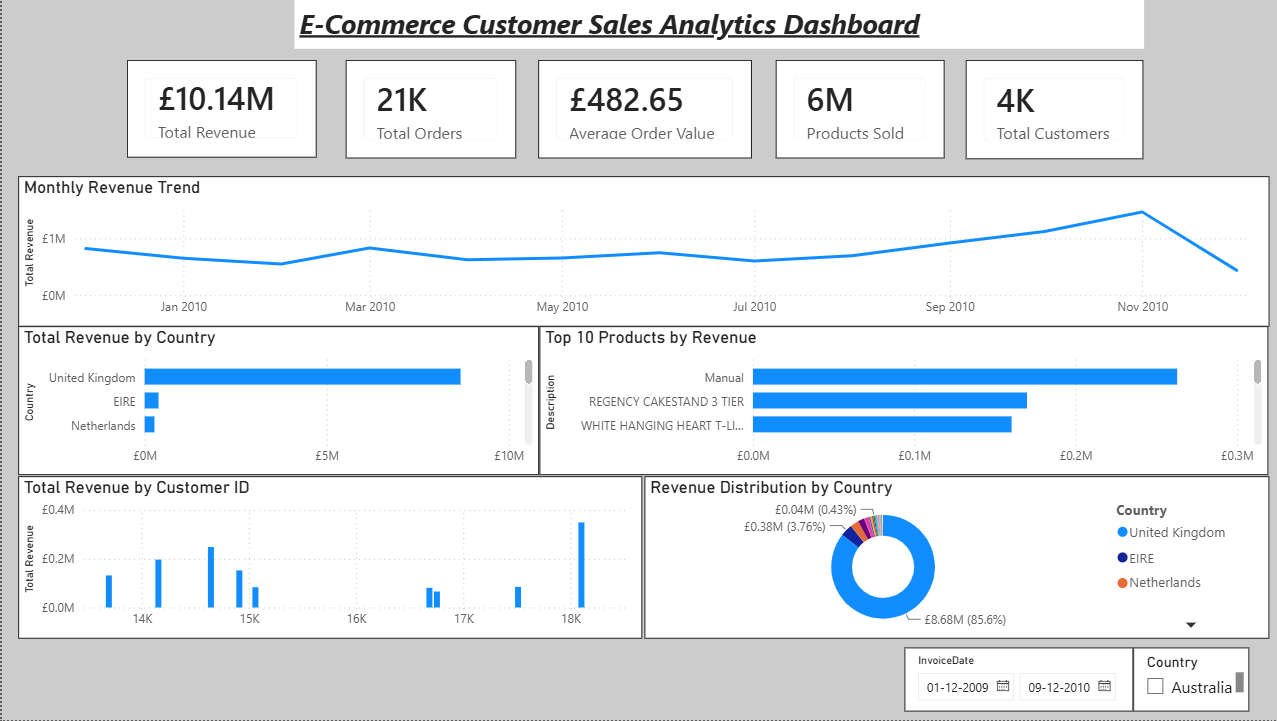

The page's visual inventory and layout, read from the dashboard file:
{"tool":"powerbi","page":{"name":"Page 1","canvas":[1280,720],"ordinal":0},"visuals":[{"type":"cardVisual","title":"Total Revenue","fields":{"Data":["online_retail_cleaned.Total Revenue"]},"box":[124.7,59.9,189.5,97.8],"z":0},{"type":"cardVisual","fields":{"Data":["online_retail_cleaned.Total Orders"]},"box":[343.9,60.2,170.2,98],"z":1000},{"type":"cardVisual","fields":{"Data":["online_retail_cleaned.Total Customers"]},"box":[964.4,59.8,177.3,99.1],"z":2000},{"type":"cardVisual","fields":{"Data":["online_retail_cleaned.Products Sold"]},"box":[773.8,60.2,168.5,98],"z":3000},{"type":"cardVisual","fields":{"Data":["online_retail_cleaned.Average Order Value"]},"box":[536.5,60.2,213.2,98],"z":4000},{"type":"lineChart","title":"Monthly Revenue Trend","fields":{"Y":["online_retail_cleaned.Total Revenue"],"Category":["online_retail_cleaned.InvoiceDate.Variation.Date Hierarchy.Year","online_retail_cleaned.InvoiceDate.Variation.Date Hierarchy.Month"]},"box":[15.9,176.1,1251,150.4],"z":5000},{"type":"clusteredBarChart","fields":{"Category":["online_retail_cleaned.Country"],"Y":["online_retail_cleaned.Total Revenue"]},"box":[15.9,326.5,520.9,149.2],"z":6000},{"type":"clusteredBarChart","title":"Top 10 Products by Revenue","fields":{"Category":["online_retail_cleaned.Description"],"Y":["online_retail_cleaned.Total Revenue"]},"box":[538,326.5,728.8,149.2],"z":7000},{"type":"donutChart","title":"Revenue Distribution by Country","fields":{"Category":["online_retail_cleaned.Country"],"Y":["online_retail_cleaned.Total Revenue"]},"box":[642,475.7,624.9,162.6],"z":8000},{"type":"slicer","fields":{"Values":["online_retail_cleaned.Country"]},"box":[1131.6,647,116.1,64.2],"z":9000},{"type":"slicer","fields":{"Values":["online_retail_cleaned.InvoiceDate"]},"box":[902.8,647,228.8,64.2],"z":10000},{"type":"clusteredColumnChart","fields":{"Category":["online_retail_cleaned.Customer ID"],"Y":["online_retail_cleaned.Total Revenue"]},"box":[15.9,475.7,623.6,162.6],"z":11000},{"type":"textbox","box":[292.3,0,849.9,48.9],"z":13000}]}

Visuals, with their boxes in screenshot pixels (x1, y1, x2, y2), scaled from the page's 1280x720 canvas onto the 1277x721 screenshot:
"Total Revenue" cardVisual: x1=124, y1=60, x2=313, y2=158
cardVisual - online_retail_cleaned.Total Orders: x1=343, y1=60, x2=513, y2=158
cardVisual - online_retail_cleaned.Total Customers: x1=962, y1=60, x2=1139, y2=159
cardVisual - online_retail_cleaned.Products Sold: x1=772, y1=60, x2=940, y2=158
cardVisual - online_retail_cleaned.Average Order Value: x1=535, y1=60, x2=748, y2=158
"Monthly Revenue Trend" lineChart: x1=16, y1=176, x2=1264, y2=327
clusteredBarChart - online_retail_cleaned.Country x online_retail_cleaned.Total Revenue: x1=16, y1=327, x2=536, y2=476
"Top 10 Products by Revenue" clusteredBarChart: x1=537, y1=327, x2=1264, y2=476
"Revenue Distribution by Country" donutChart: x1=640, y1=476, x2=1264, y2=639
slicer - online_retail_cleaned.Country: x1=1129, y1=648, x2=1245, y2=712
slicer - online_retail_cleaned.InvoiceDate: x1=901, y1=648, x2=1129, y2=712
clusteredColumnChart - online_retail_cleaned.Customer ID x online_retail_cleaned.Total Revenue: x1=16, y1=476, x2=638, y2=639
textbox: x1=292, y1=0, x2=1140, y2=49
